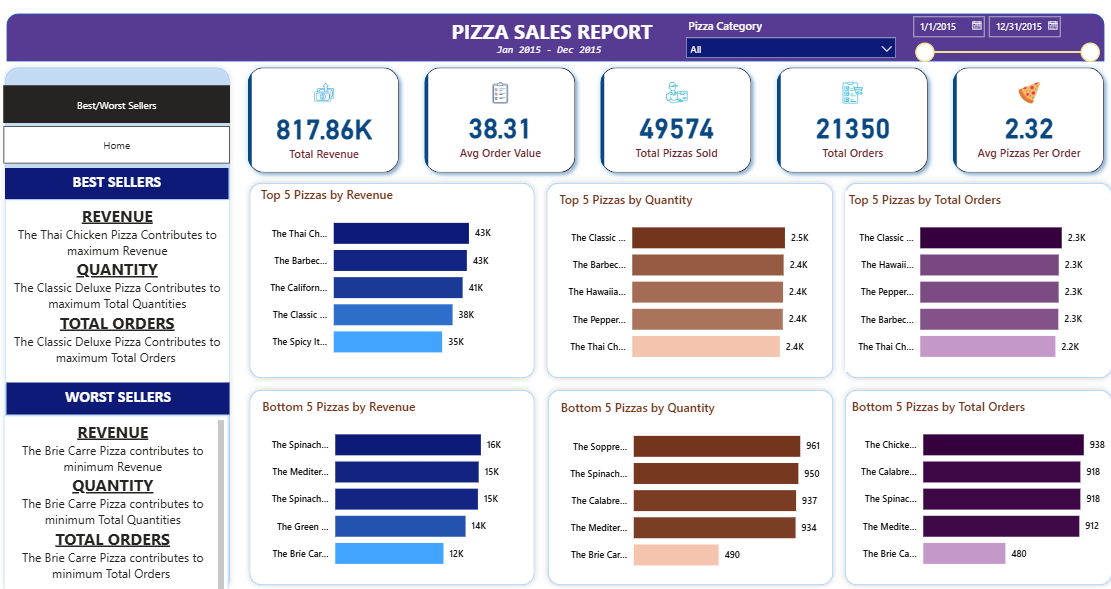

The page's visual inventory and layout, read from the dashboard file:
{"tool":"powerbi","page":{"name":"Best/Worst Sellers","canvas":[1500,820],"ordinal":1},"visuals":[{"type":"cardVisual","fields":{"Data":["pizza_sales.Total Revenue","pizza_sales.Avg Order Value","pizza_sales.Total Pizzas Sold","pizza_sales.Total Orders","pizza_sales.Avg Pizzas Per Order"]},"box":[322,72,1178,176],"z":0},{"type":"shape","box":[18,18,1464,64],"z":1000},{"type":"textbox","box":[578,18,342,50],"z":2000},{"type":"textbox","box":[616,50,258,44],"z":3000},{"type":"shape","box":[334,236,396,276],"z":4000},{"type":"shape","box":[7.1,82.9,315.7,717.1],"z":5000},{"type":"textbox","box":[15.3,224.3,298,42],"z":6000},{"type":"textbox","box":[15.3,266.3,300,246],"z":7000},{"type":"textbox","box":[17.1,511,297.1,42.9],"z":8000},{"type":"textbox","box":[14.3,553.8,300,241.4],"z":9000},{"type":"slicer","fields":{"Values":["pizza_sales.pizza_category"]},"box":[914,18,300,74],"z":10000},{"type":"slicer","fields":{"Values":["pizza_sales.order_date"]},"box":[1214,12,270,96],"z":11000},{"type":"shape","box":[730,236,398,276],"z":12000},{"type":"shape","box":[1128,236,372,276],"z":13000},{"type":"shape","box":[334,512,396,276],"z":14000},{"type":"shape","box":[732,512,396,276],"z":15000},{"type":"shape","box":[1128,512,372,276],"z":16000},{"type":"barChart","title":"Top 5 Pizzas by Revenue","fields":{"Category":["pizza_sales.pizza_name"],"Y":["pizza_sales.Total Revenue"]},"box":[352,248,356,242],"z":17000},{"type":"barChart","title":"Bottom 5 Pizzas by Revenue","fields":{"Category":["pizza_sales.pizza_name"],"Y":["pizza_sales.Total Revenue"]},"box":[354,530,356,242],"z":18000},{"type":"barChart","title":"Top 5 Pizzas by Quantity","fields":{"Category":["pizza_sales.pizza_name"],"Y":["pizza_sales.Total Pizzas Sold"]},"box":[750,254,356,242],"z":19000},{"type":"barChart","title":"Bottom 5 Pizzas by Quantity","fields":{"Category":["pizza_sales.pizza_name"],"Y":["pizza_sales.Total Pizzas Sold"]},"box":[752,532,356,242],"z":20000},{"type":"barChart","title":"Top 5 Pizzas by Total Orders","fields":{"Category":["pizza_sales.pizza_name"],"Y":["pizza_sales.Total Orders"]},"box":[1136,254,348,242],"z":21000},{"type":"barChart","title":"Bottom 5 Pizzas by Total Orders","fields":{"Category":["pizza_sales.pizza_name"],"Y":["pizza_sales.Total Orders"]},"box":[1140,530,348,242],"z":22000},{"type":"pageNavigator","box":[14.7,114.3,302.9,50],"z":22001},{"type":"pageNavigator","box":[13.3,168.6,302.9,50],"z":22002}]}

Visuals, with their boxes on the page's 1500x820 design canvas (x1, y1, x2, y2). These are canvas units, not pixel positions in the 1111x589 screenshot, which may show the page scaled, cropped or inside an application window:
cardVisual - pizza_sales.Total Revenue x pizza_sales.Avg Order Value: <box>322,72,1500,248</box>
shape: <box>18,18,1482,82</box>
textbox: <box>578,18,920,68</box>
textbox: <box>616,50,874,94</box>
shape: <box>334,236,730,512</box>
shape: <box>7,83,323,800</box>
textbox: <box>15,224,313,266</box>
textbox: <box>15,266,315,512</box>
textbox: <box>17,511,314,554</box>
textbox: <box>14,554,314,795</box>
slicer - pizza_sales.pizza_category: <box>914,18,1214,92</box>
slicer - pizza_sales.order_date: <box>1214,12,1484,108</box>
shape: <box>730,236,1128,512</box>
shape: <box>1128,236,1500,512</box>
shape: <box>334,512,730,788</box>
shape: <box>732,512,1128,788</box>
shape: <box>1128,512,1500,788</box>
"Top 5 Pizzas by Revenue" barChart: <box>352,248,708,490</box>
"Bottom 5 Pizzas by Revenue" barChart: <box>354,530,710,772</box>
"Top 5 Pizzas by Quantity" barChart: <box>750,254,1106,496</box>
"Bottom 5 Pizzas by Quantity" barChart: <box>752,532,1108,774</box>
"Top 5 Pizzas by Total Orders" barChart: <box>1136,254,1484,496</box>
"Bottom 5 Pizzas by Total Orders" barChart: <box>1140,530,1488,772</box>
pageNavigator: <box>15,114,318,164</box>
pageNavigator: <box>13,169,316,219</box>
